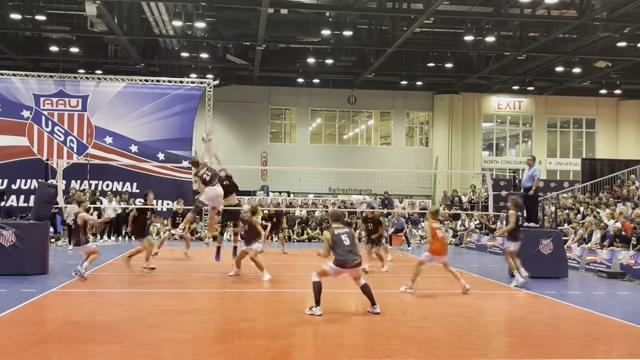Attack: (172, 140, 221, 251)
Block: (207, 147, 239, 260)
Player: (305, 210, 379, 315), (401, 208, 470, 293), (69, 199, 110, 278), (229, 205, 270, 280), (125, 191, 161, 269), (496, 197, 527, 286), (361, 204, 387, 271), (266, 203, 287, 253), (152, 231, 177, 255)
ball: (202, 126, 213, 137)
